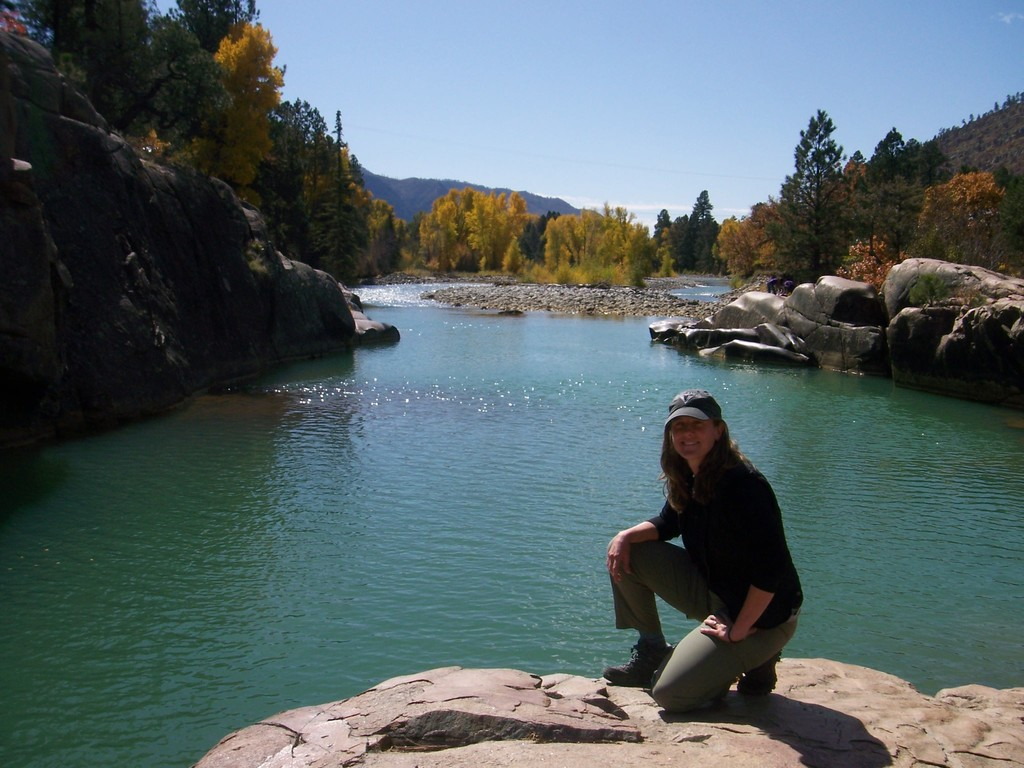Tree: (0, 0, 416, 272), (737, 103, 1023, 309), (416, 177, 535, 291), (531, 202, 652, 292), (659, 172, 733, 298)
